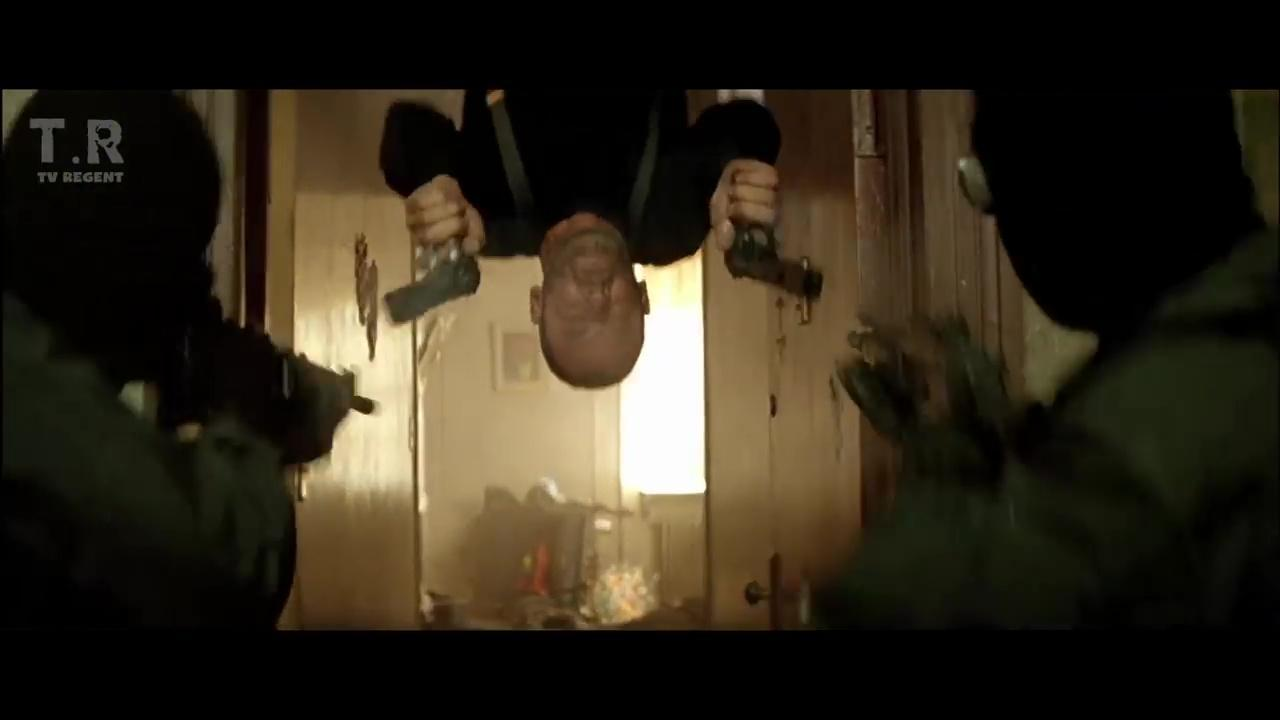Gun: (180, 303, 384, 439), (843, 317, 1021, 433)
Pistol: (378, 220, 498, 322), (719, 209, 833, 308)
